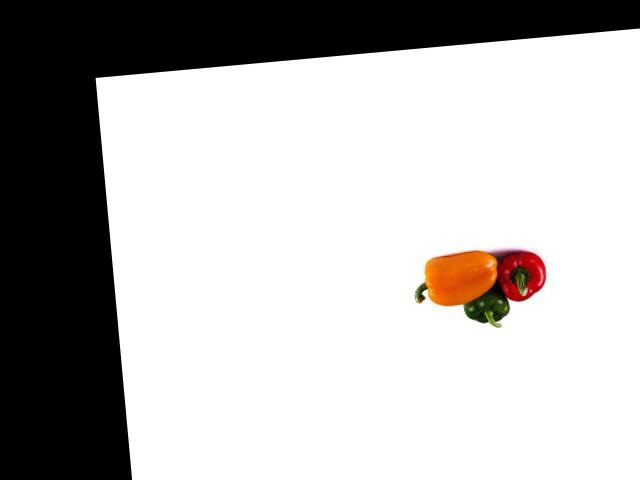bell_pepper: (457, 279, 515, 331)
